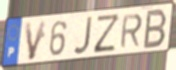6: (49, 19, 68, 58)
B: (141, 7, 168, 50)
J: (72, 15, 94, 57)
R: (118, 13, 144, 50)
V: (23, 18, 48, 62)
Z: (92, 12, 122, 55)
